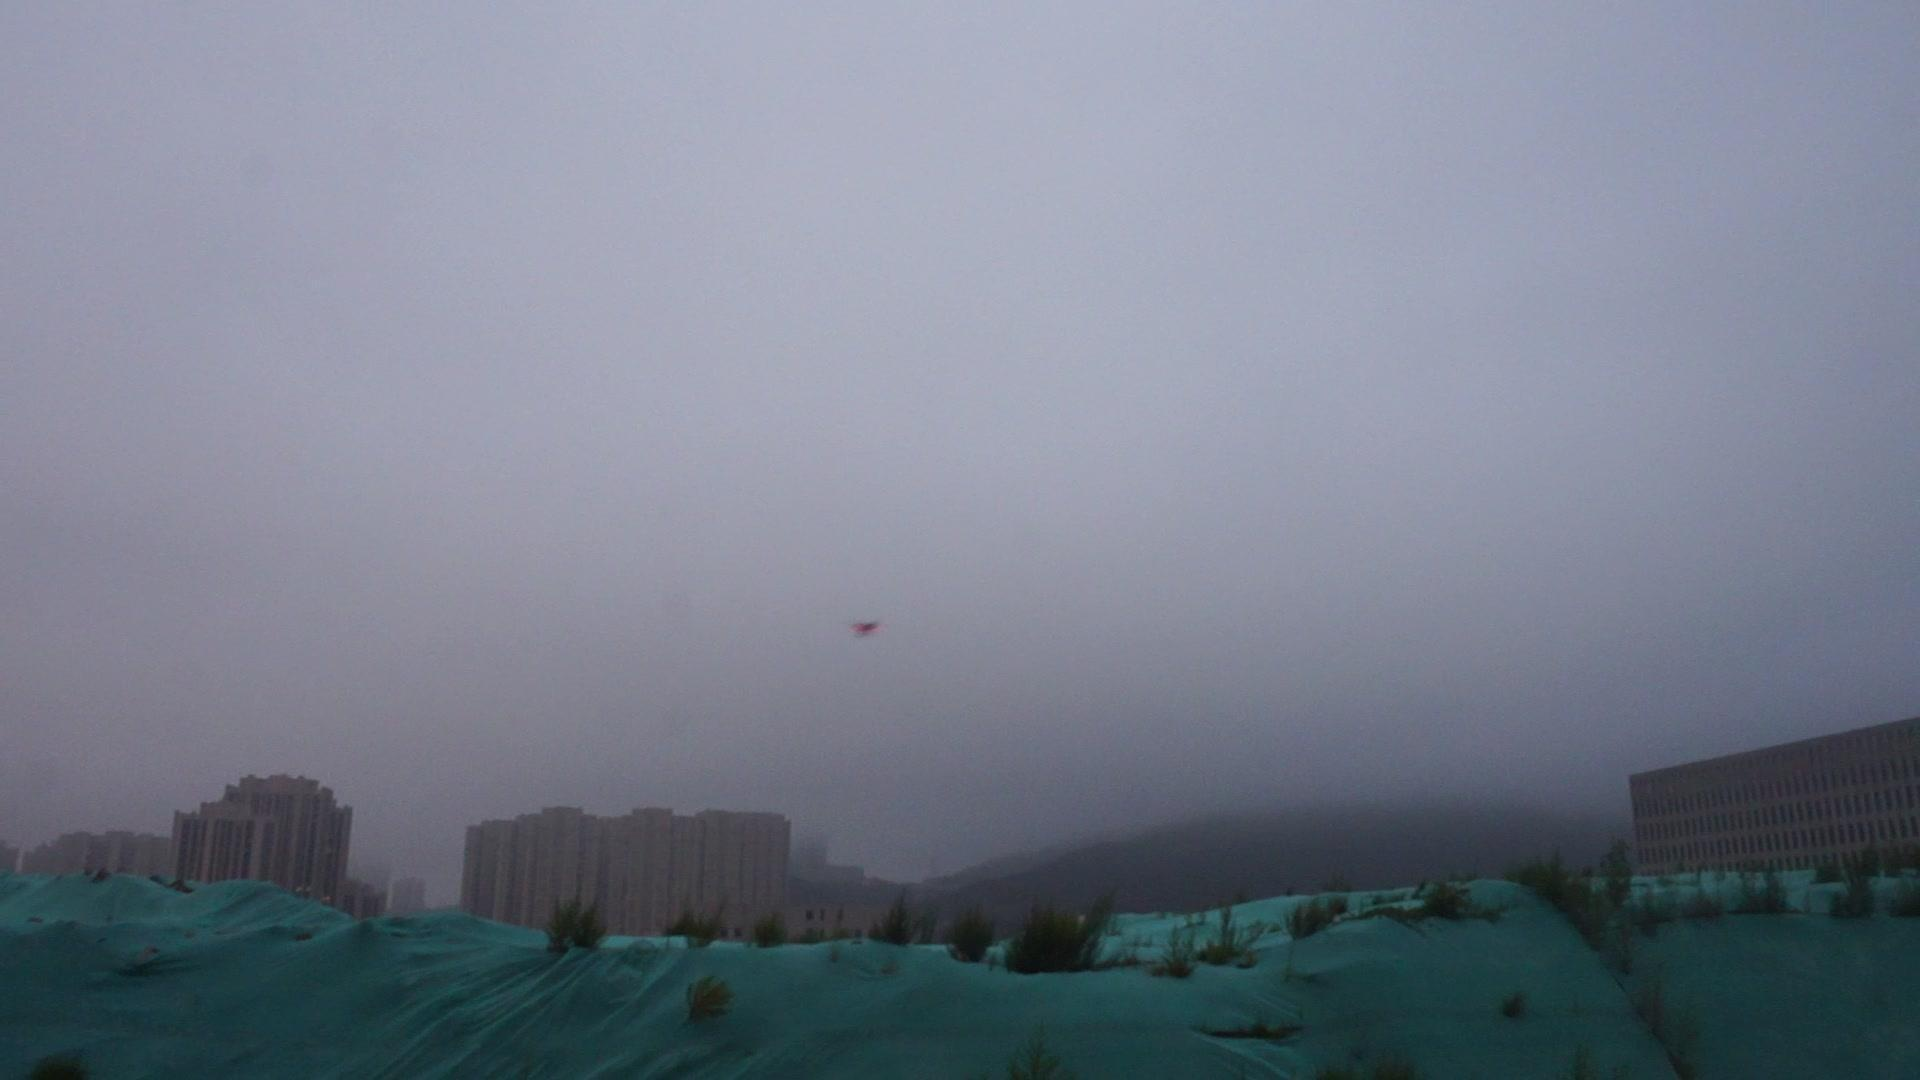UAV: (849, 621, 885, 637)
